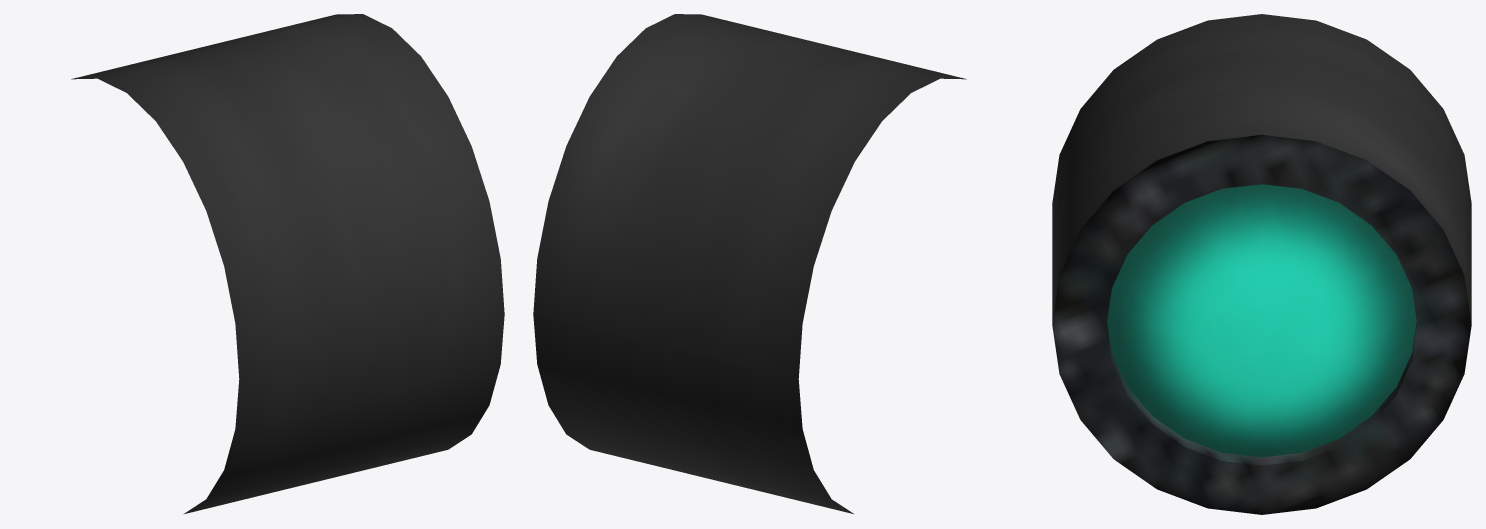
Rendered from green1.gltf.
The picture shows the model from 3 angles, left to right: view 1: azimuth 30°, elevation 25°; view 2: azimuth 150°, elevation 25°; view 3: azimuth 270°, elevation 25°; orthographic projection. The views are drawn at different scales.
Visible parts, largest first — view 1: mount; view 2: mount; view 3: mount, lampon.
Boxes of the visible parts, x1,y1,x2,y2 form: mount: (71,14,504,514); mount: (533,14,966,514); mount: (1052,14,1471,514); lampon: (1107,184,1416,457).
Size of the model in its own units: 0.0102 by 0.014 by 0.014.
Materials: 2 (2 with a texture image).
